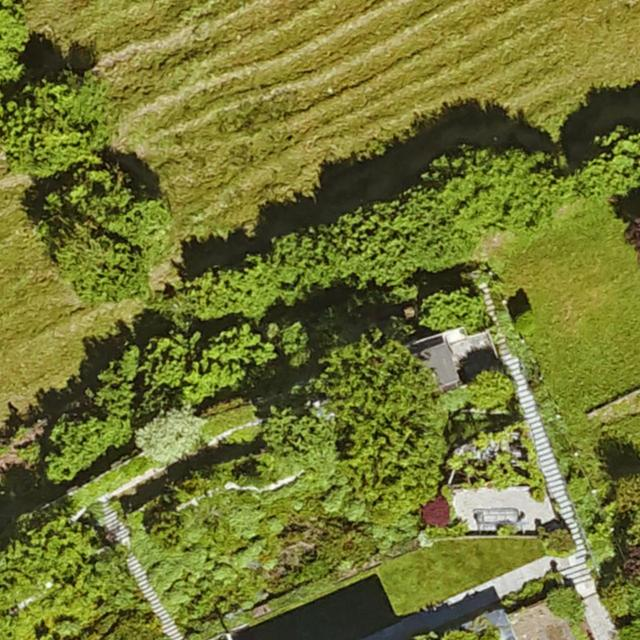tree: (317, 334, 441, 515), (0, 511, 132, 637), (41, 173, 167, 302), (410, 145, 566, 245), (1, 71, 113, 175), (95, 333, 215, 425), (335, 205, 424, 280), (183, 268, 274, 327), (579, 120, 640, 203), (255, 407, 327, 472), (273, 234, 347, 293), (597, 534, 640, 631), (44, 414, 106, 479), (420, 288, 487, 332), (0, 0, 29, 93), (468, 369, 516, 411), (548, 585, 586, 620)
